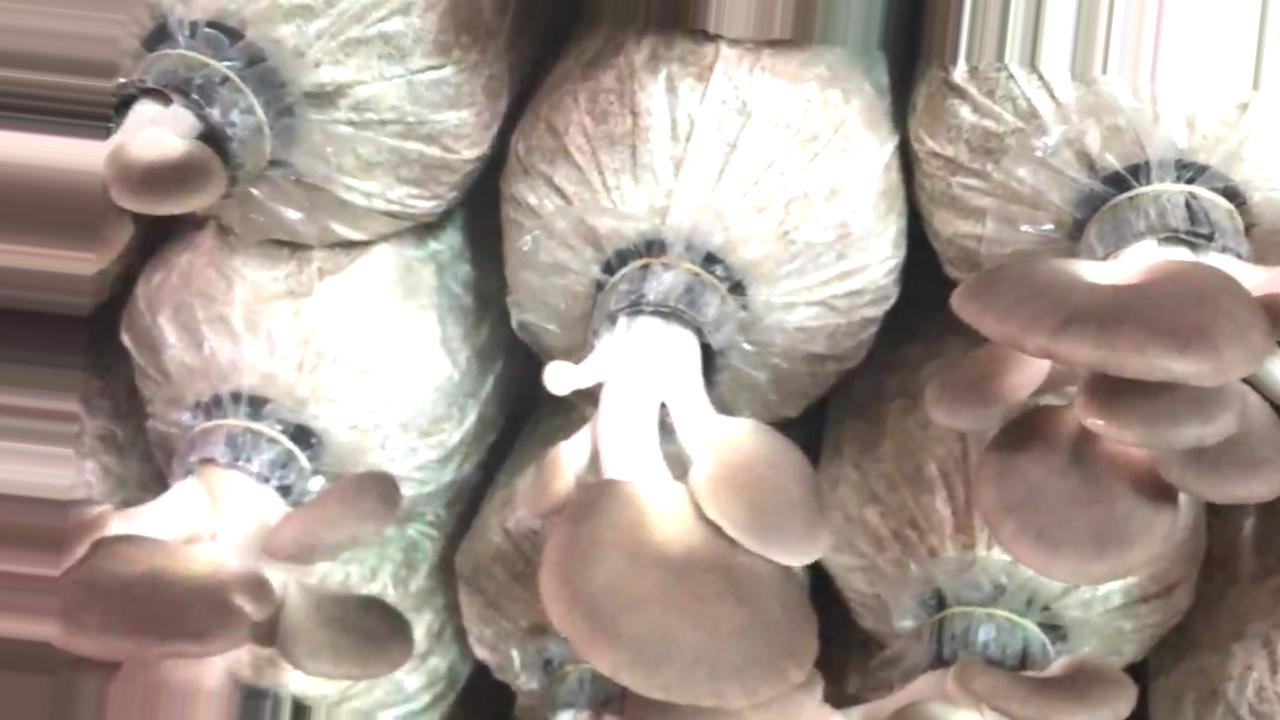nam: (505, 264, 834, 707), (923, 185, 1280, 584), (1, 427, 416, 688), (2, 35, 274, 280)
